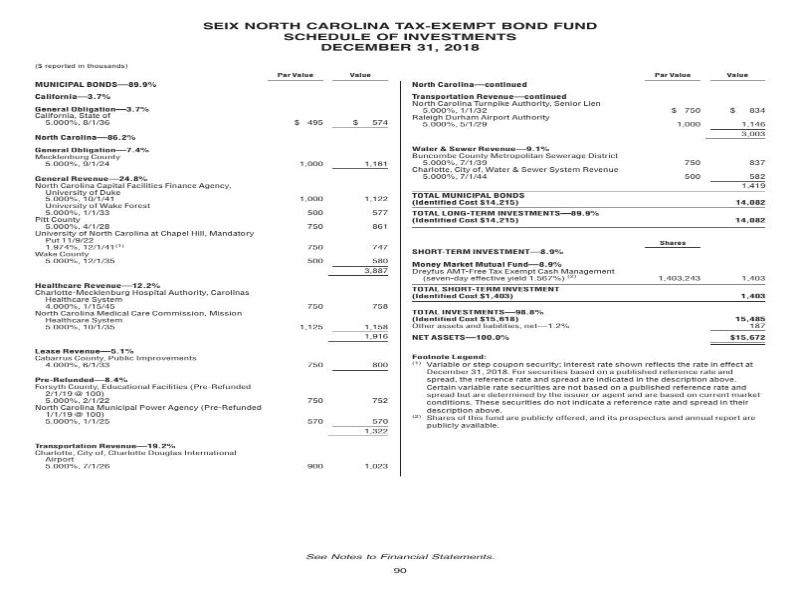table: (22, 57, 409, 511), (394, 66, 784, 483)
